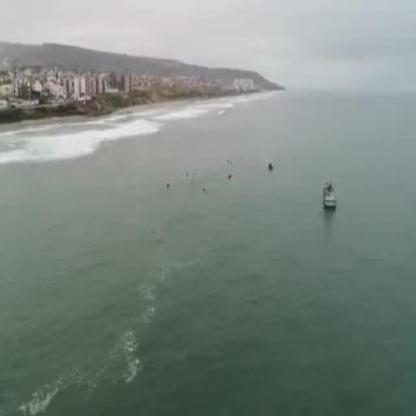Boat: (320, 179, 342, 210)
